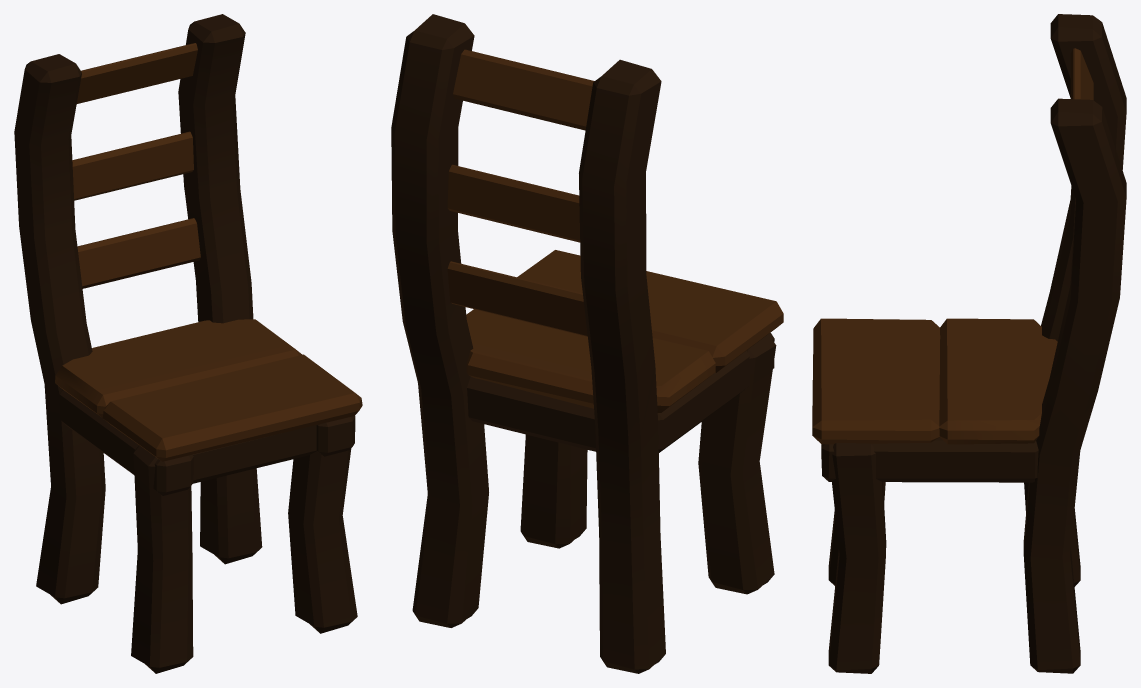
Rendered from Chair.FBX.
3 views of the same model, side by side, from view 1: azimuth 30°, elevation 25°; view 2: azimuth 150°, elevation 25°; view 3: azimuth 270°, elevation 25° (orthographic). The views are drawn at different scales.
Parts seen in each view (by area): view 1: Chair; view 2: Chair; view 3: Chair.
Boxes of the visible parts, left/top/right/bottom form: Chair: left=14, top=14, right=362, bottom=673; Chair: left=391, top=14, right=783, bottom=673; Chair: left=812, top=14, right=1126, bottom=673.
Bounding box in the file's own units: 59.48 × 140 × 71.53.
